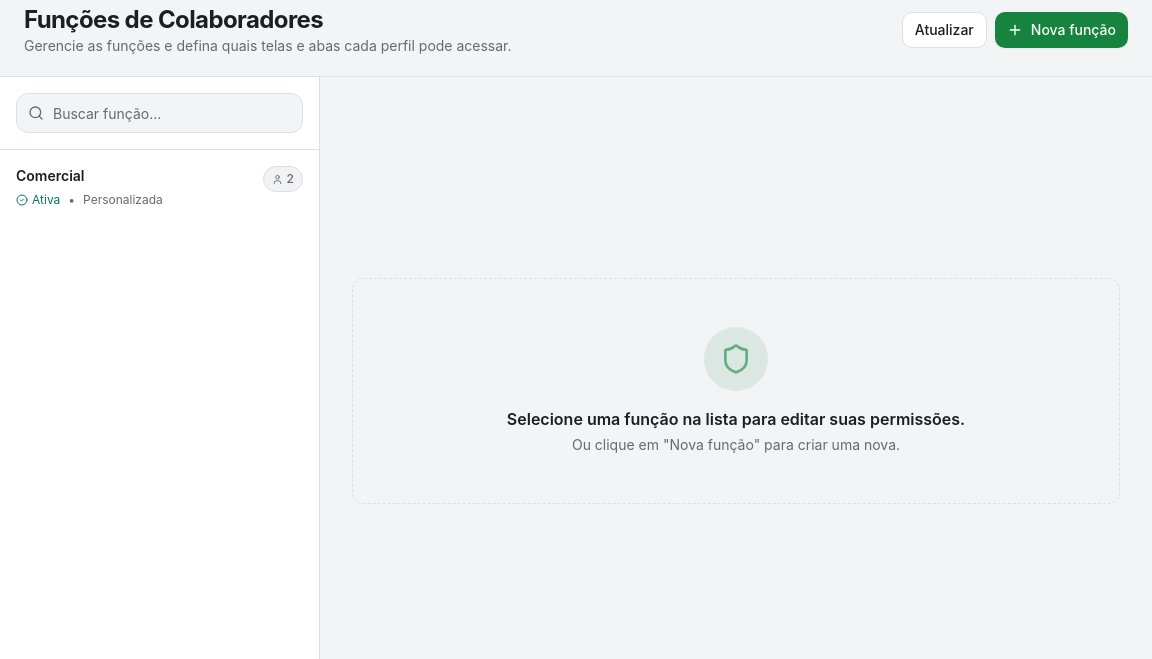
SettingsCollaboratorFunctions com pre-matricula habilitada › exibe, busca e detalha leads e pre-matriculas no grupo de Alunos
The image size is (1152, 659).
Click the button with aria-label "Abrir função: Comercial". click: (50, 176)
box: [0,150,319,224]
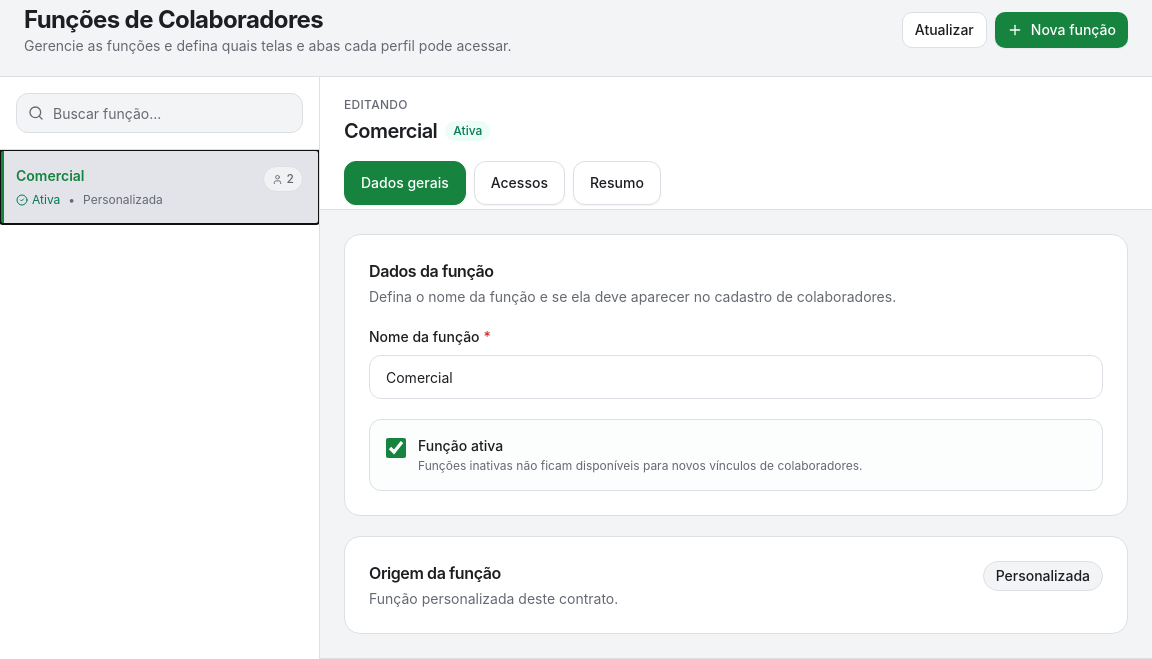
Click the tab "Acessos". click: (519, 183)
box: [474,161,565,205]
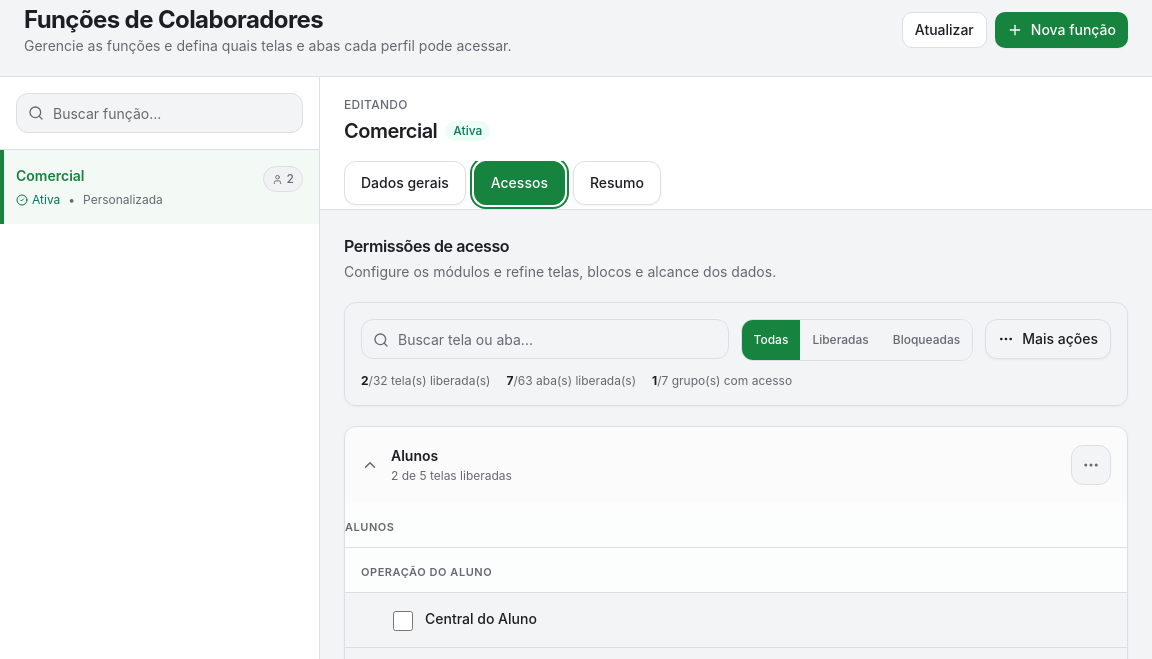
Result: the element that starts with "Alunos" is shown at [361,443,1059,487]
Type "Revisar pré-matrícula" into the search field with placeholder "Buscar tela ou aba...". click: (545, 339)
box: [361,319,728,359]
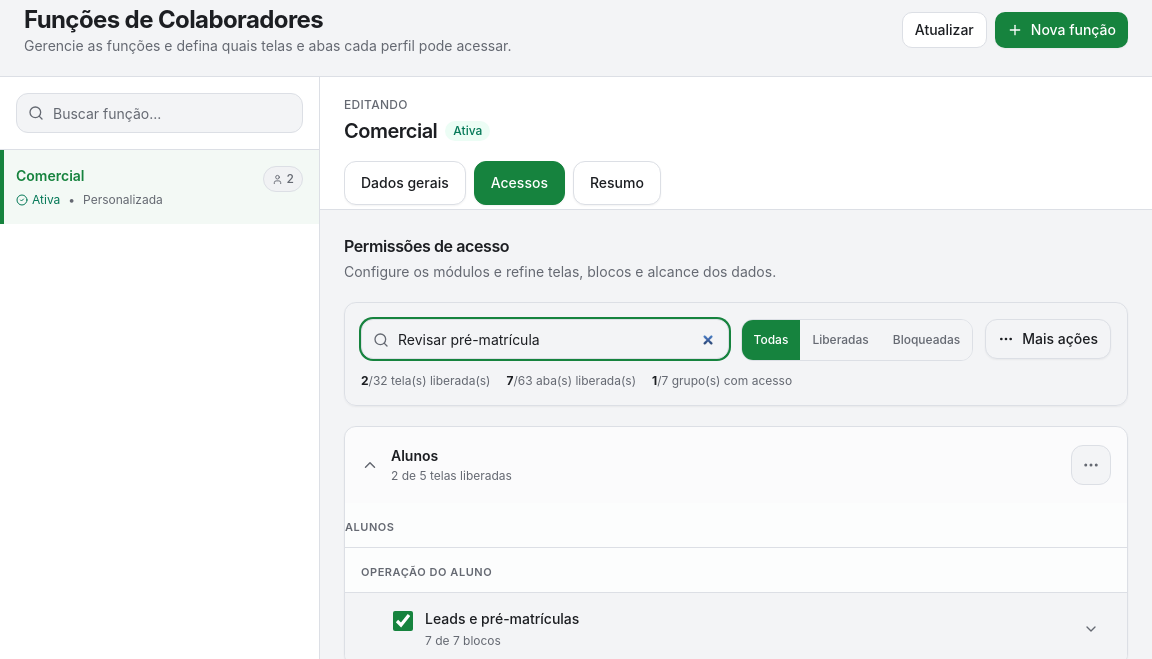
Result: the text "Leads e pré-matrículas" is shown at [425,610,579,627]
Replace the text in the search field with placeholder "Buscar tela ou aba..." with "lead". click: (545, 339)
box: [361,319,728,359]
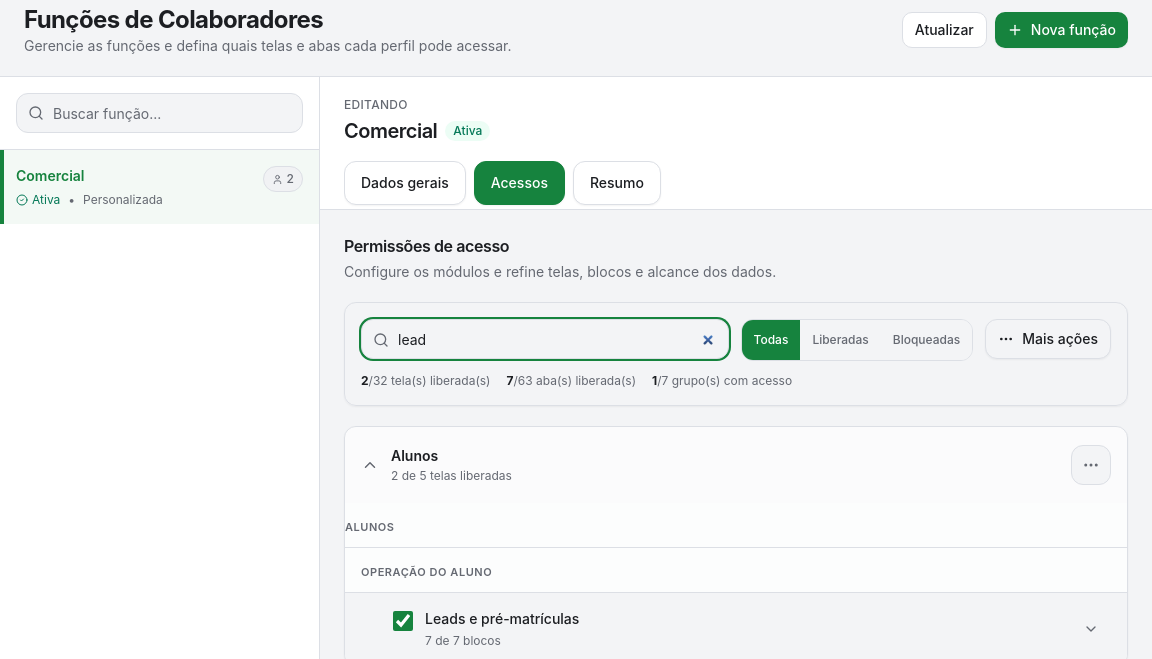
Result: the text "Leads e pré-matrículas" is shown at [425,610,579,627]
Clear the search field with placeholder "Buscar tela ou aba...". click: (545, 339)
box: [361,319,728,359]
(page scrolled)
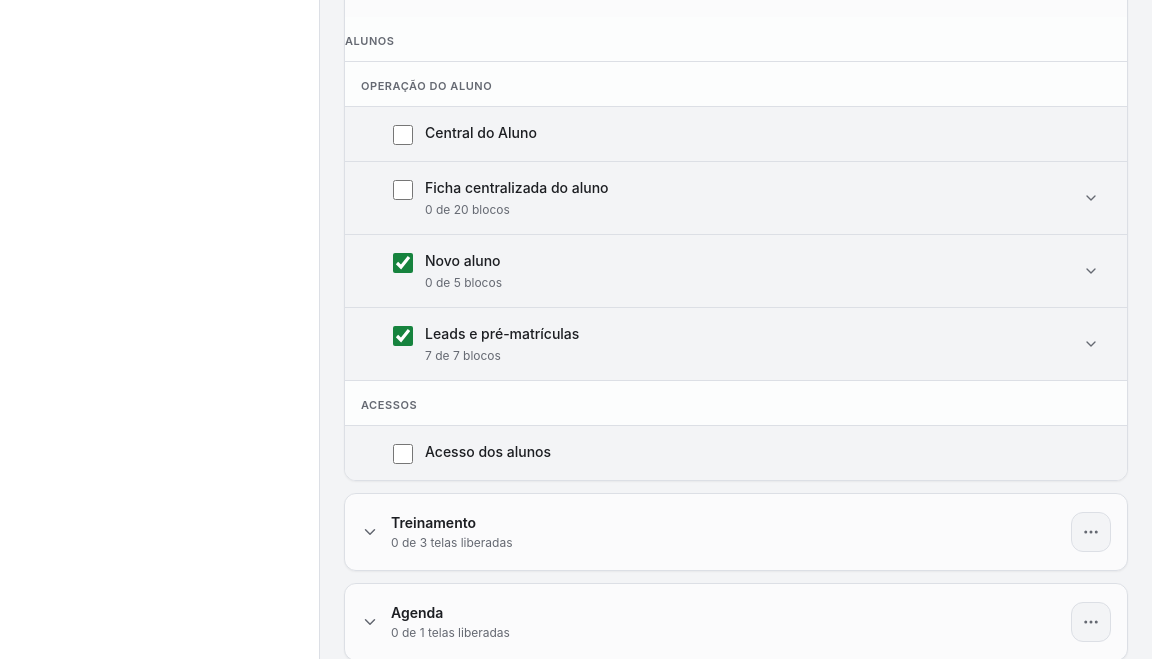
Click the button named "Leads e pré-matrículas". click: (1091, 344)
box: [1071,324,1111,364]
(page scrolled)
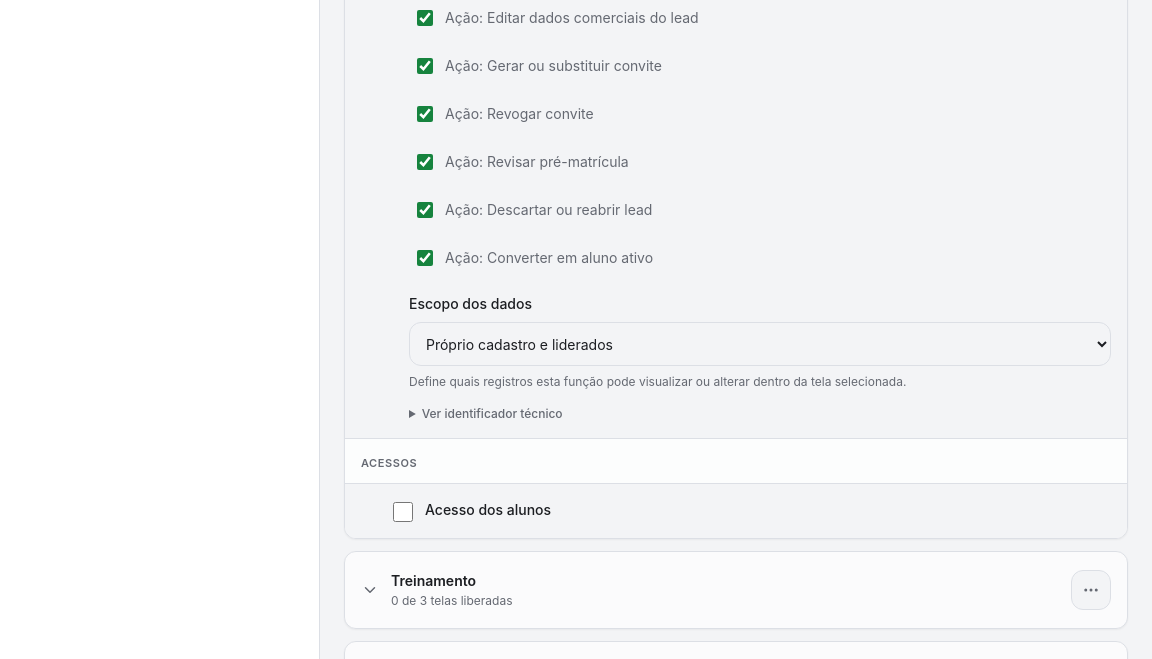
Result: the text "Ação: Editar dados comerciais do lead" is shown at [445,8,699,28]
Result: the text "Ação: Gerar ou substituir convite" is shown at [445,56,662,76]
Result: the text "Ação: Revogar convite" is shown at [445,104,594,124]
